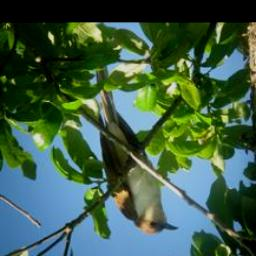Cuckoo: (92, 59, 183, 237)
